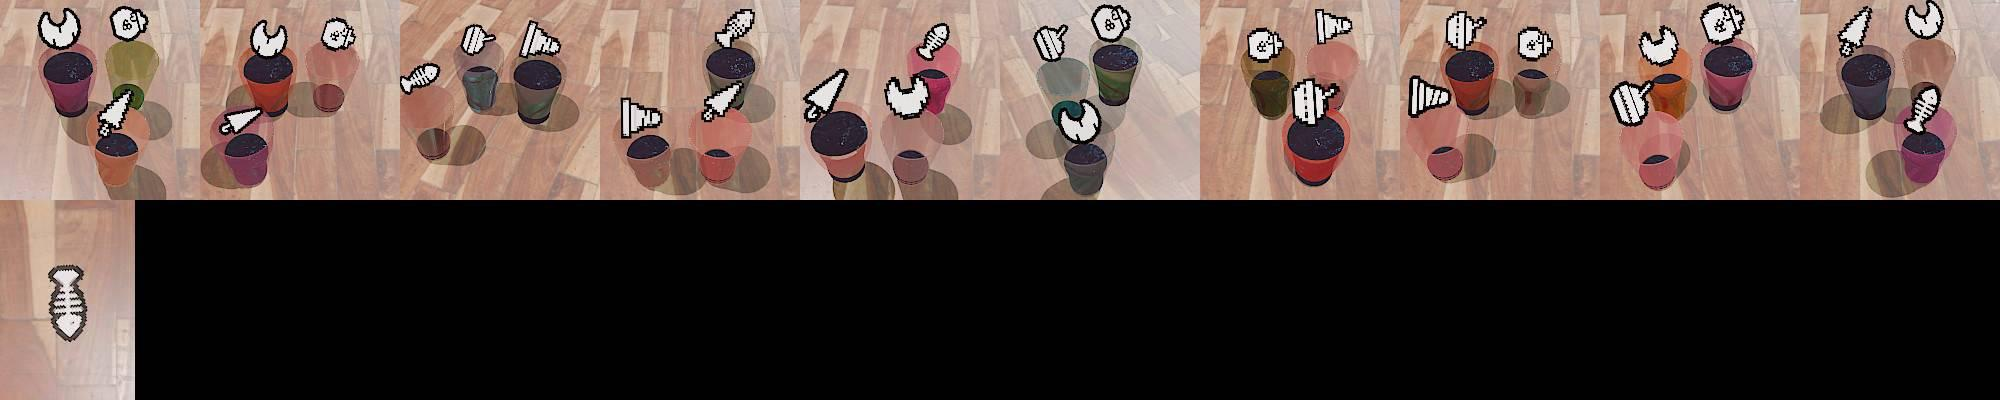icon: (46, 264, 87, 344), (802, 68, 849, 122), (1056, 96, 1102, 145), (1291, 74, 1335, 125), (884, 73, 932, 118), (1608, 79, 1653, 126), (1700, 3, 1746, 46), (1409, 71, 1453, 117), (97, 87, 138, 135), (1903, 84, 1941, 135), (713, 6, 758, 50), (37, 8, 82, 51), (620, 96, 663, 138), (702, 79, 745, 121), (519, 19, 564, 60), (1837, 6, 1872, 57), (1638, 24, 1680, 66), (1445, 10, 1487, 52), (249, 19, 288, 60), (1906, 0, 1944, 41), (1092, 4, 1131, 42), (108, 5, 148, 42), (218, 104, 265, 135), (1316, 9, 1355, 46), (915, 20, 950, 60), (1246, 27, 1286, 62), (1517, 25, 1554, 62), (1034, 24, 1068, 62), (459, 23, 496, 56), (401, 62, 441, 92), (320, 17, 356, 50)
